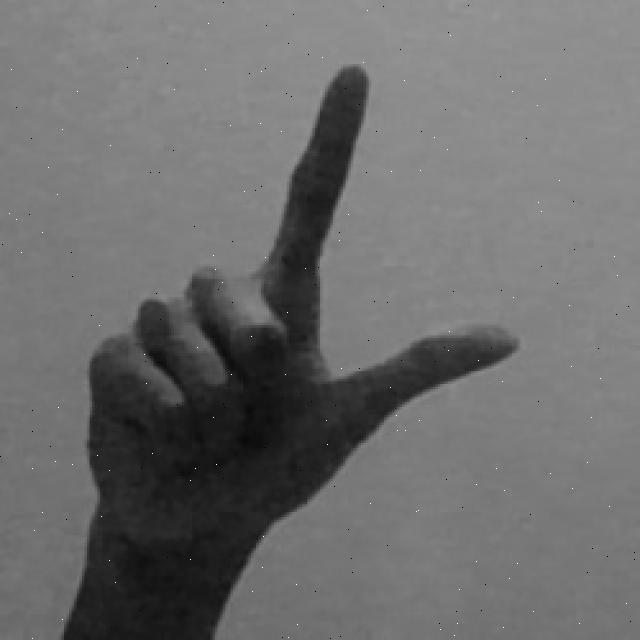L: (62, 60, 528, 640)
